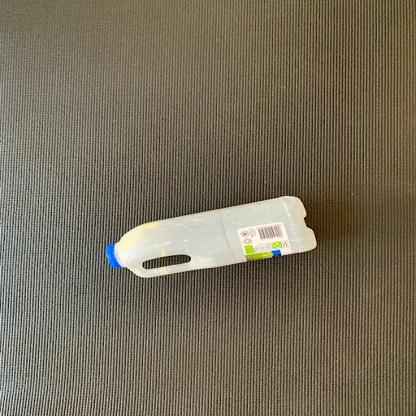trash: (105, 193, 316, 280)
